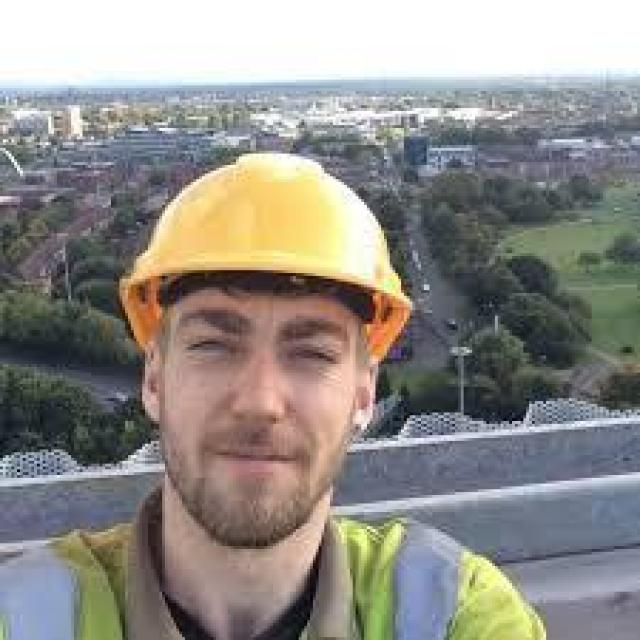helmet: (116, 151, 412, 350)
